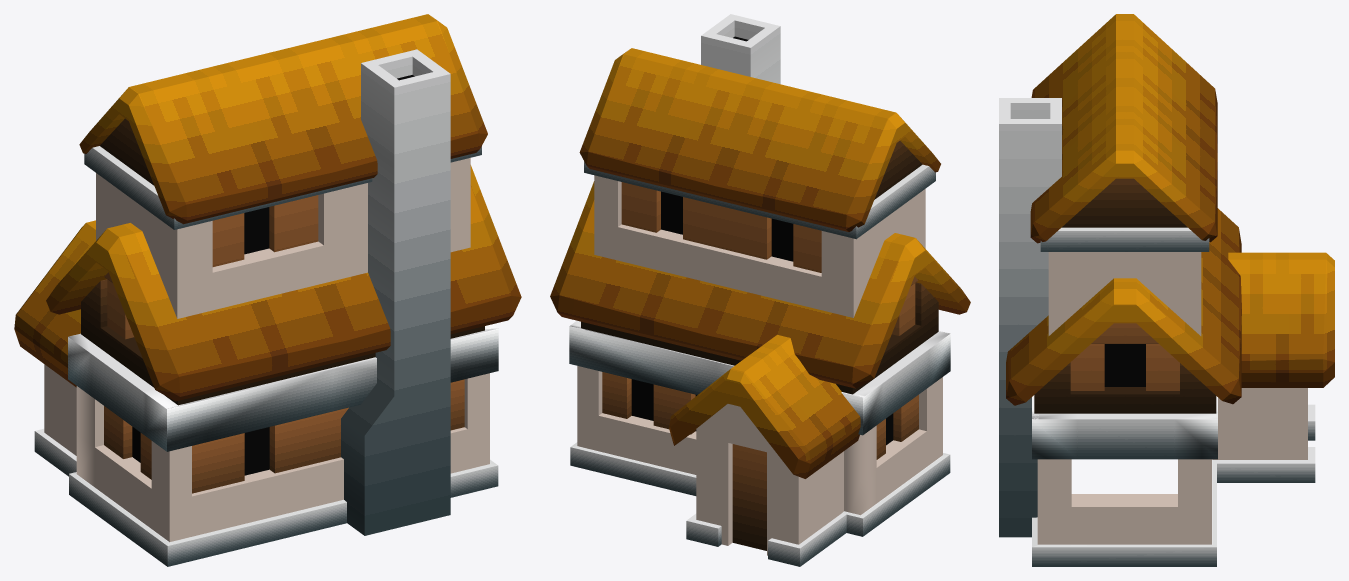
Rendered from farm_house_lvl6.fbx.
3 renders of one model, left to right at view 1: azimuth 30°, elevation 25°; view 2: azimuth 150°, elevation 25°; view 3: azimuth 270°, elevation 25°, orthographic. The views are drawn at different scales.
Parts seen in each view (by area): view 1: farm_house_lvl6; view 2: farm_house_lvl6; view 3: farm_house_lvl6.
Boxes of the visible parts, left/top/right/bottom form: farm_house_lvl6: left=14, top=14, right=521, bottom=566; farm_house_lvl6: left=550, top=14, right=970, bottom=566; farm_house_lvl6: left=999, top=14, right=1334, bottom=566.
Size of the model in its own units: 1243 by 1448 by 1066.
